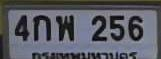2: (91, 14, 106, 40)
4: (14, 14, 28, 40)
5: (109, 14, 124, 40)
6: (127, 15, 142, 40)
A01: (32, 14, 50, 40)
A30: (55, 14, 73, 40)
